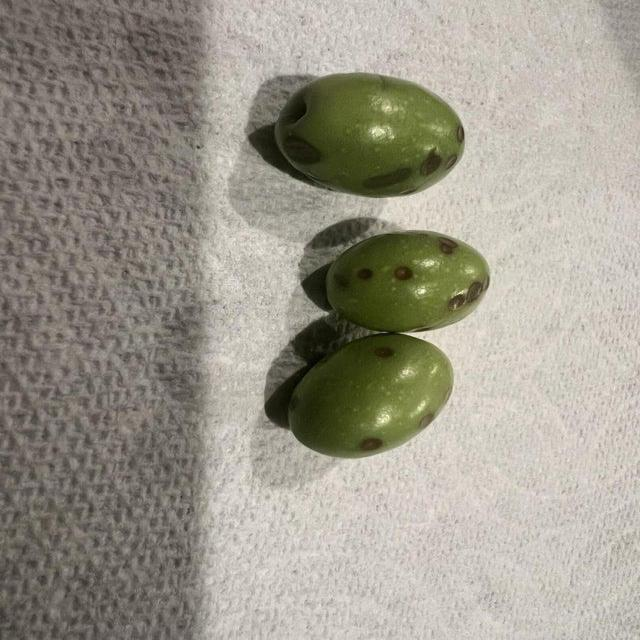Olive Fruit Fly: (277, 73, 464, 197), (288, 334, 452, 457), (324, 230, 489, 333)
